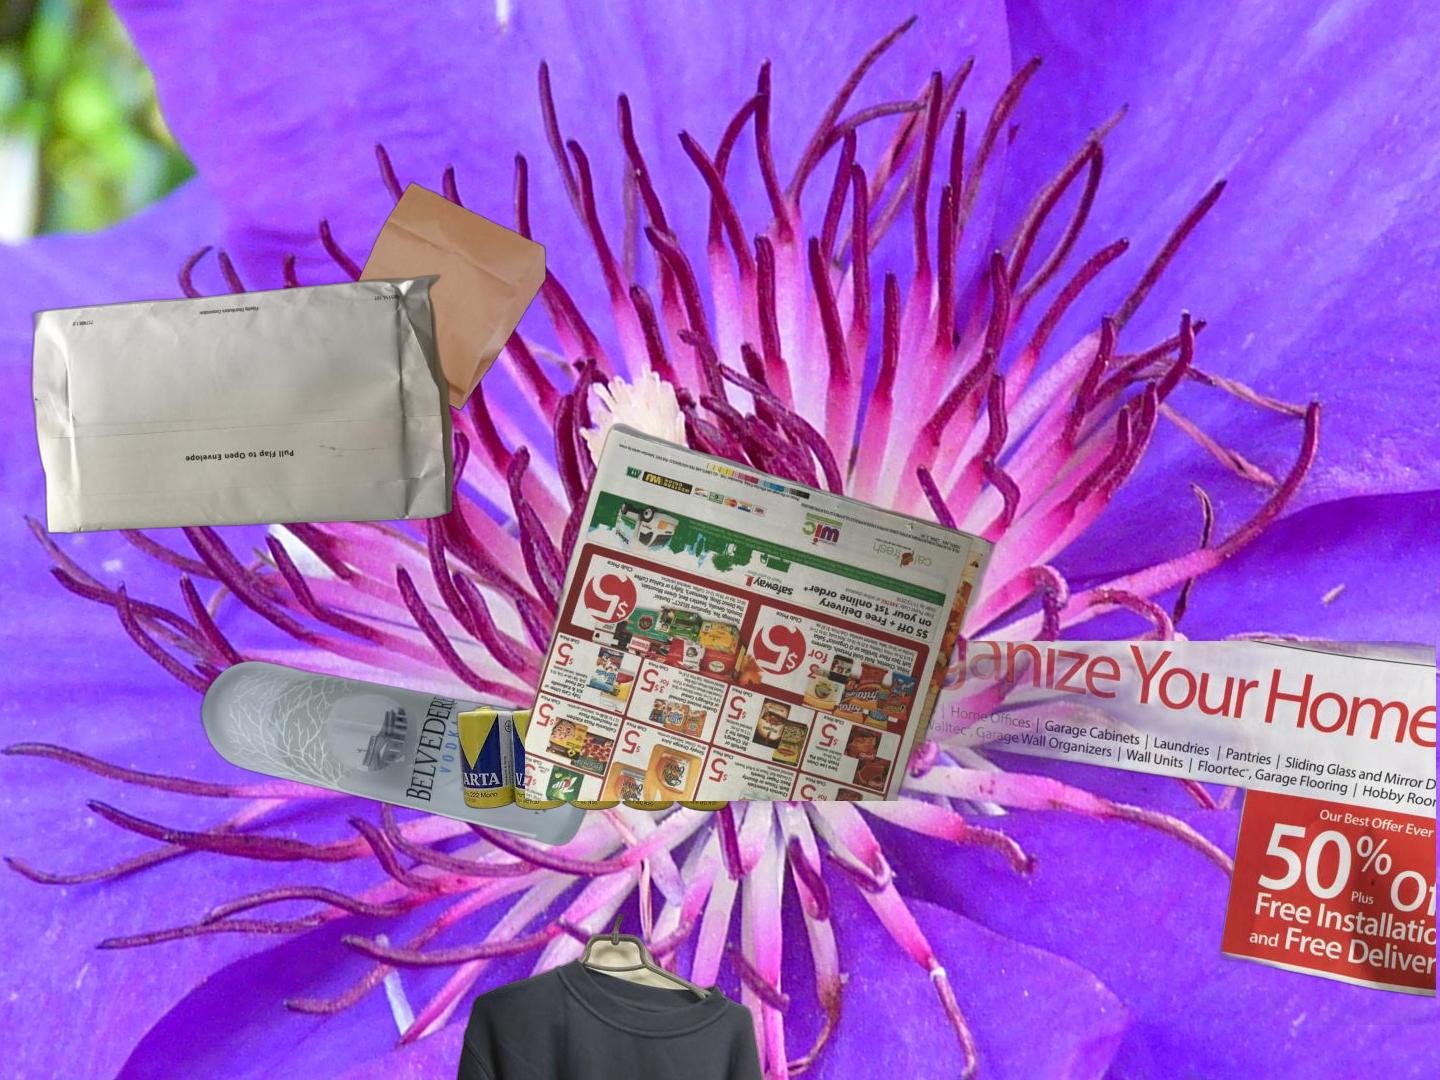battery: (454, 700, 740, 815)
clothes: (427, 914, 793, 1080)
glass: (196, 657, 604, 849)
paper: (924, 641, 1435, 1026), (525, 420, 999, 801), (28, 272, 459, 535)
paper-bag: (329, 167, 549, 413)
plastic-bag: (65, 296, 298, 481)
